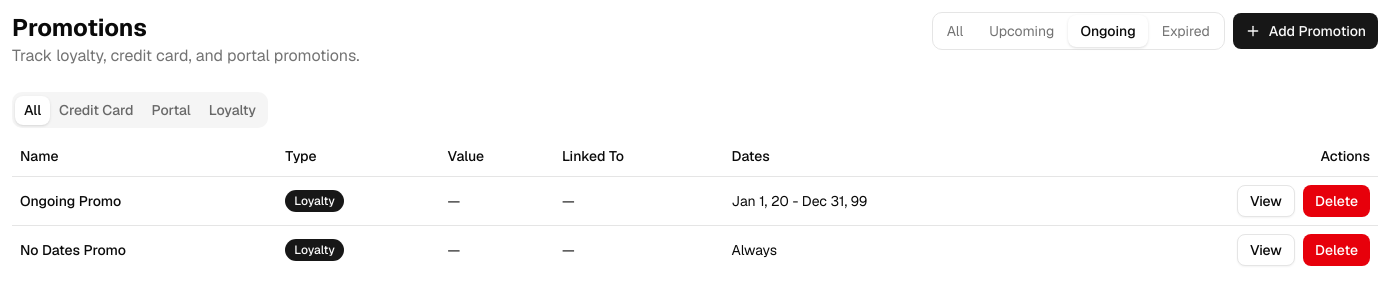
Test case: PromotionsPage status filter › shows expired promos under Expired filter
The width and height of the screenshot is (1378, 290).
Expected: the element with test id "promotions-list-desktop" is shown, [12, 136, 1377, 274]
Click the button with test id "status-filter-expired": (1186, 31) [1150, 15, 1222, 47]
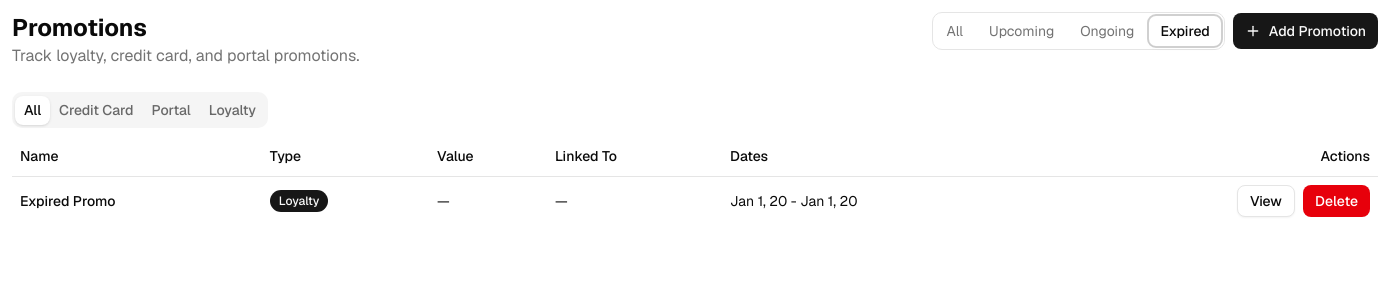
Expected: the link "Expired Promo" is shown, [20, 192, 115, 210]
Expected: the link "Ongoing Promo" is gone
